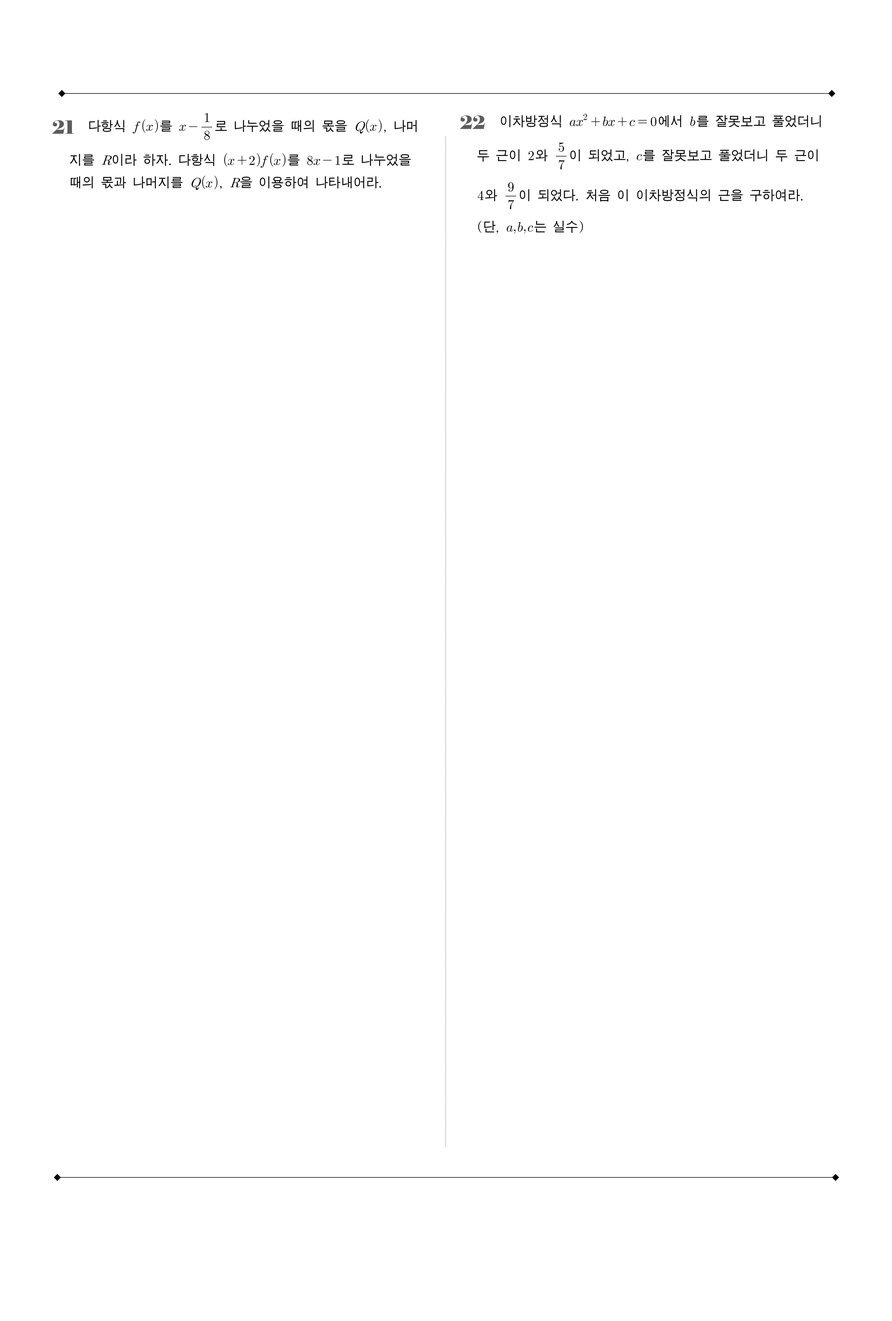problem: (448, 104, 841, 246), (44, 106, 435, 202)
